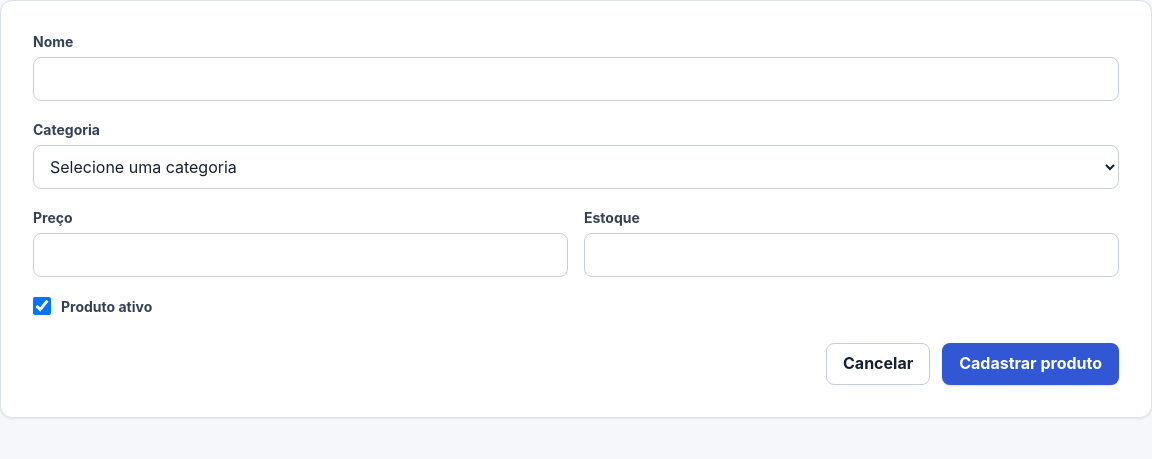
Test: ProductForm › rejects a fractional stock value
In the field labelled "Nome": (576, 79) x1=33 y1=57 x2=1119 y2=101, type "Produto válido"
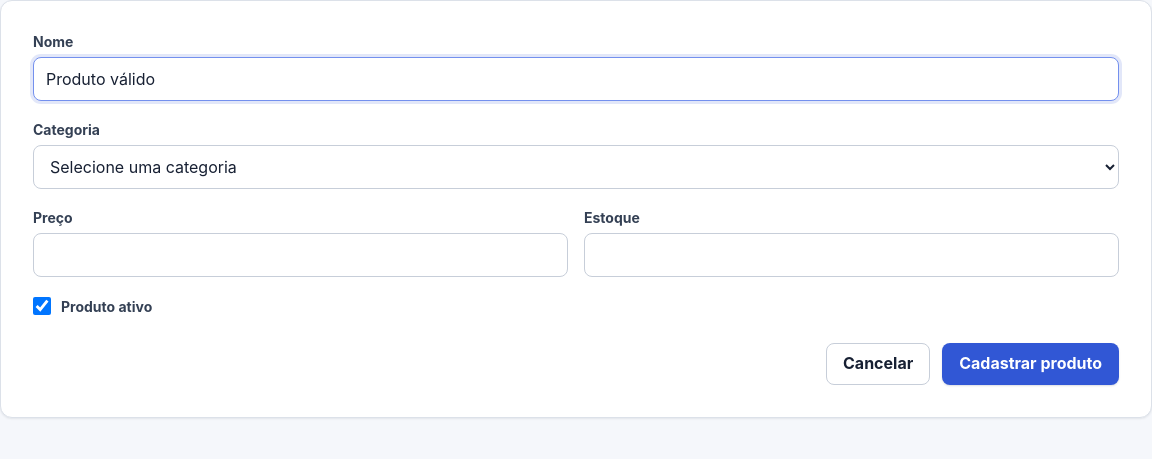
Select "Áudio" in the dropdown labelled "Categoria": (576, 167) x1=33 y1=145 x2=1119 y2=189
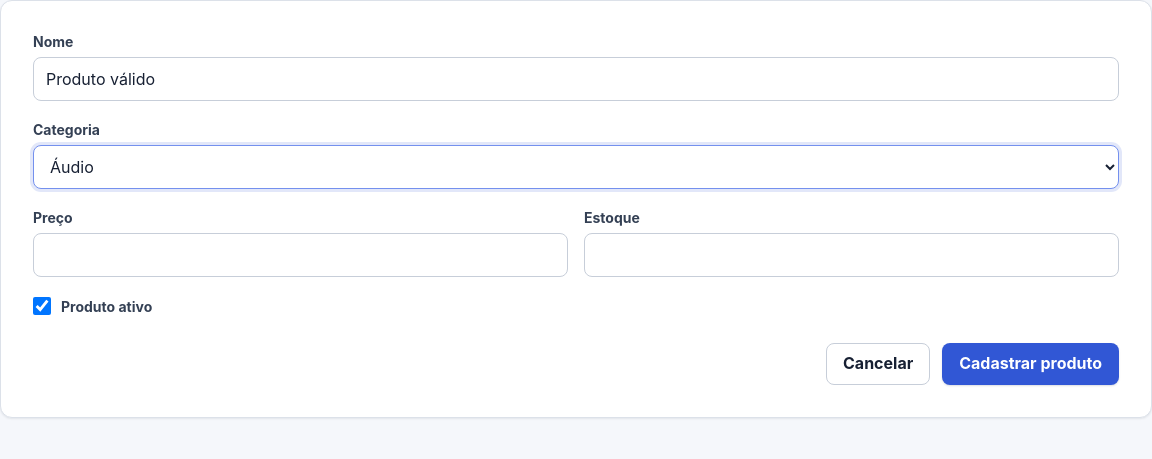
In the number field labelled "Preço": (300, 255) x1=33 y1=233 x2=568 y2=277, type "10"
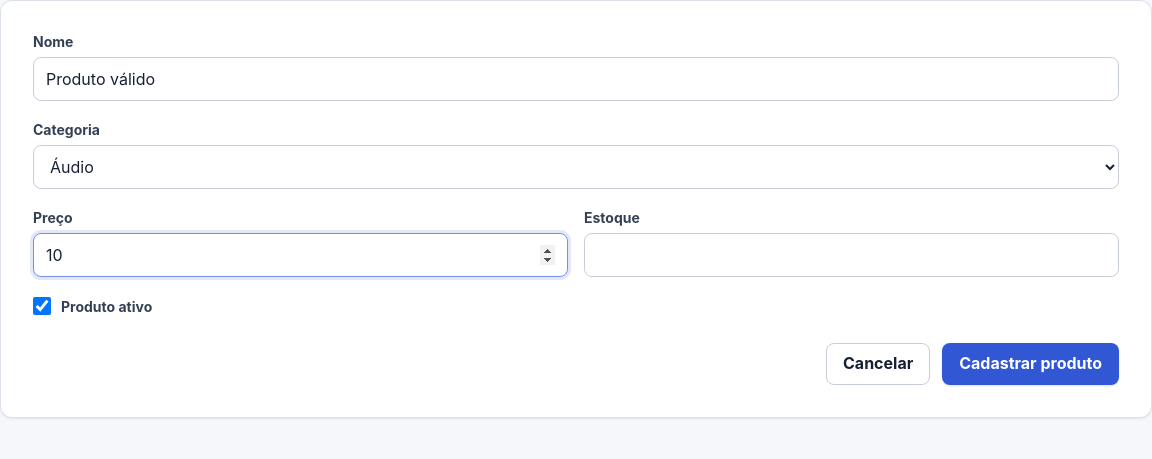
In the number field labelled "Estoque": (852, 255) x1=584 y1=233 x2=1119 y2=277, type "1.5"
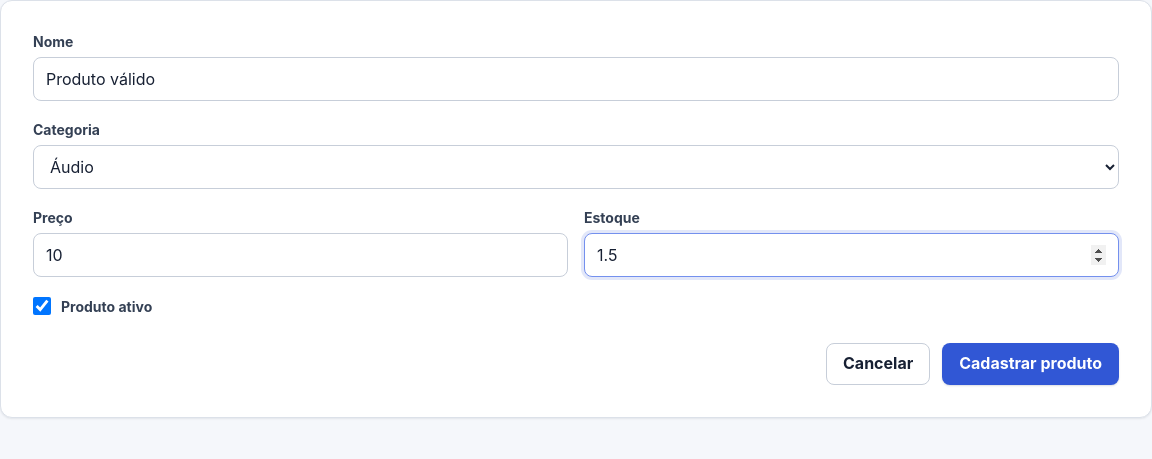
Click the button "Cadastrar produto": (1031, 364) x1=942 y1=343 x2=1119 y2=385
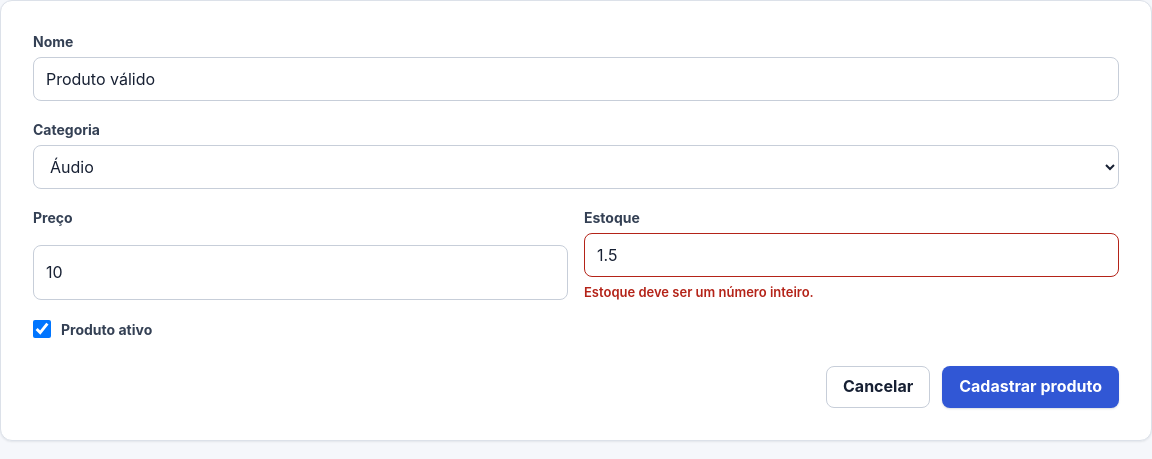
Check: the text "Estoque deve ser um número inteiro." is shown, box x1=584 y1=284 x2=814 y2=300
